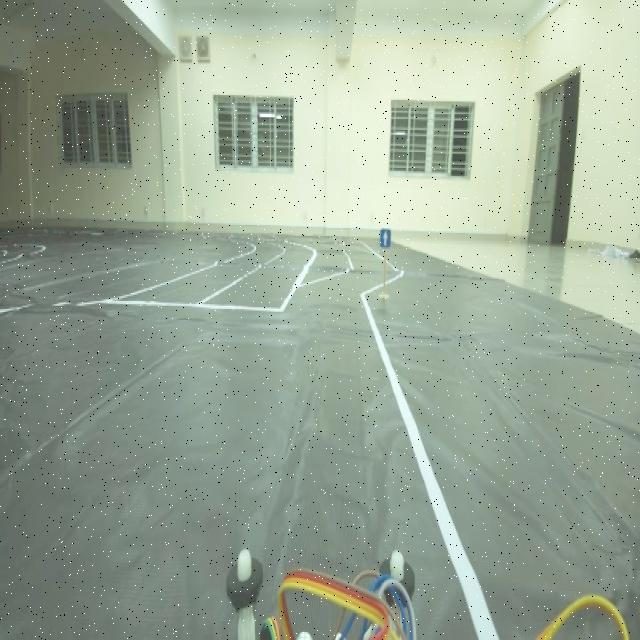onewayroad: (375, 221, 397, 259)
